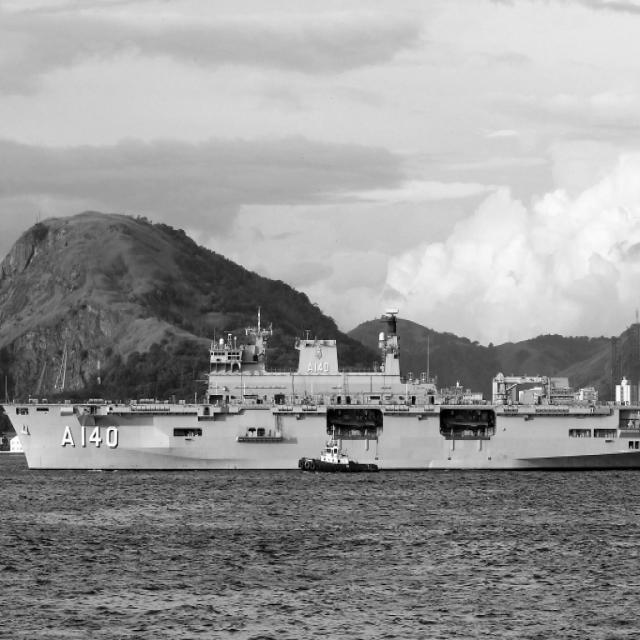Portanaves: (1, 298, 640, 479)
